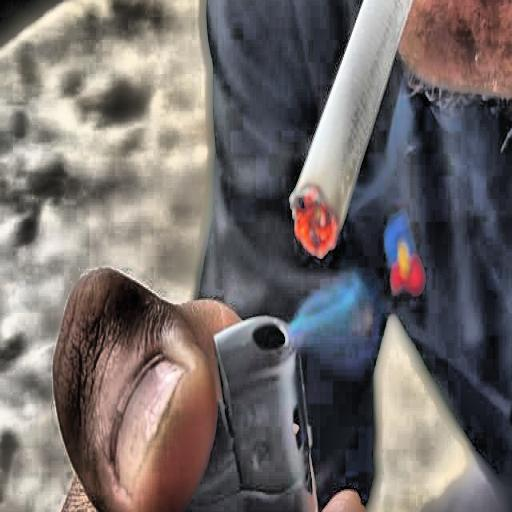Asbak: (290, 0, 414, 256)
Merokok: (54, 0, 512, 512)
